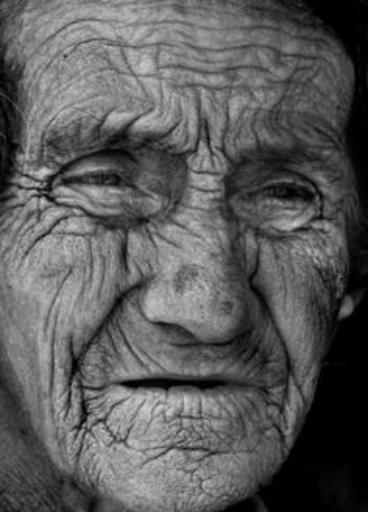left_eye: (247, 181, 318, 213)
left_lip_corner: (233, 375, 264, 397)
right_eye: (56, 167, 129, 198)
right_lip_corner: (113, 373, 146, 393)
